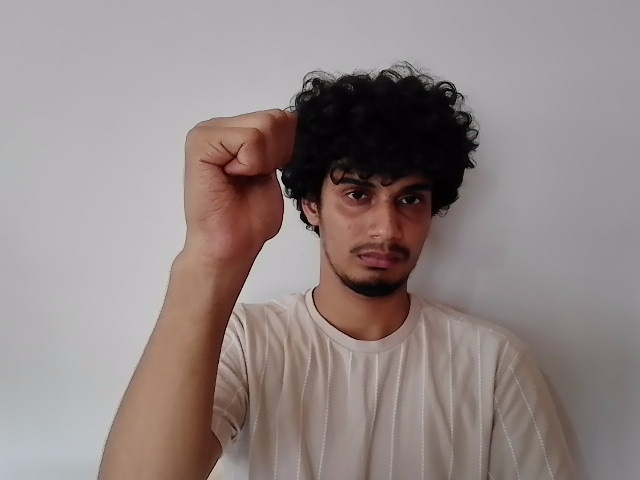how: (177, 110, 300, 256)
